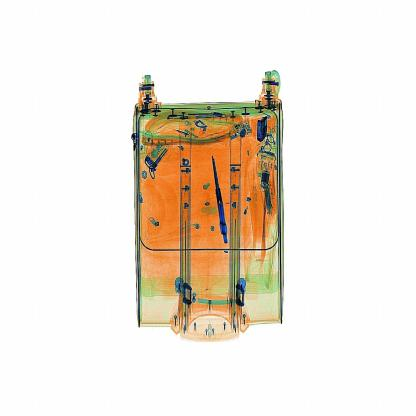gun: (206, 143, 238, 259)
